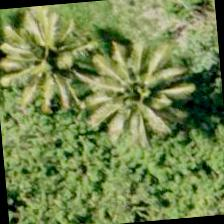Kelapa_Sawit: (103, 36, 201, 134), (14, 11, 112, 109), (88, 61, 186, 159), (0, 2, 90, 101)
